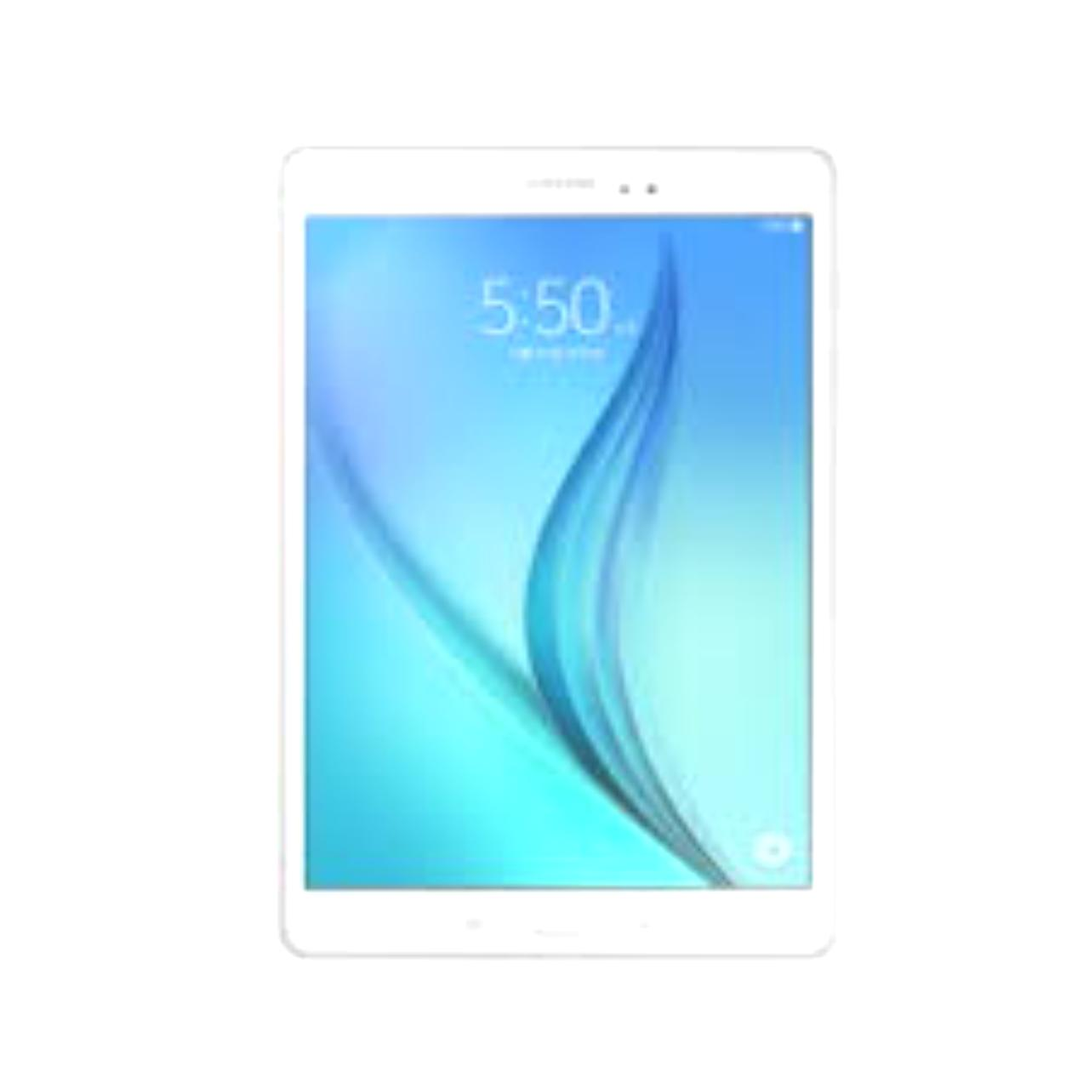Tablet_PC: (268, 133, 848, 968)
